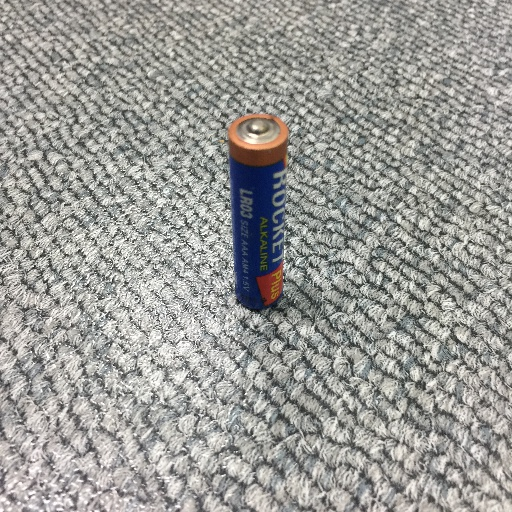Battery_0: (218, 105, 293, 316)
